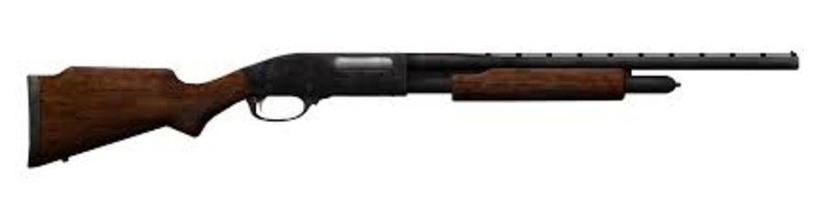weapon: (27, 45, 800, 167)
